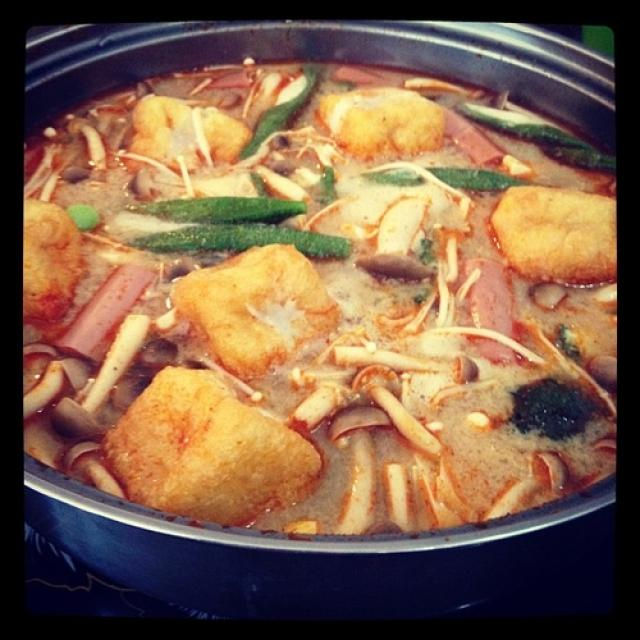汤锅炖物: (26, 15, 613, 613)
